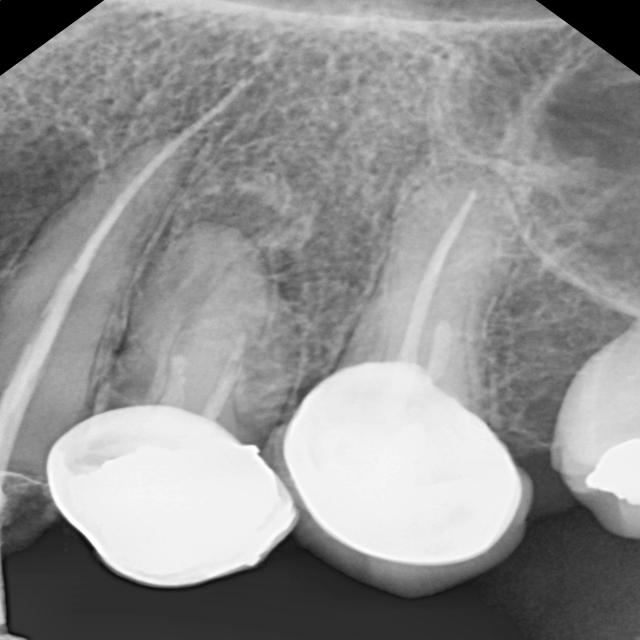Crown: (298, 358, 524, 573), (42, 403, 292, 590)
RCT: (3, 67, 269, 460), (372, 182, 494, 350)
